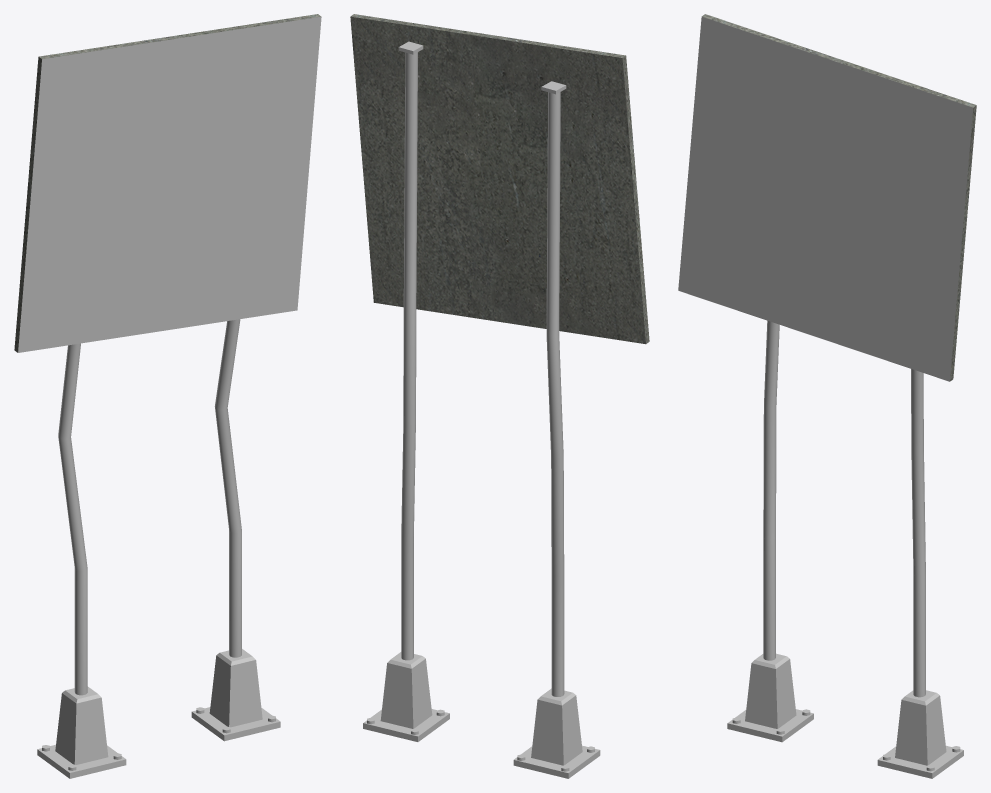
File: RV_Signs_00.fbx
3 views of the same model, side by side, from view 1: azimuth 30°, elevation 25°; view 2: azimuth 150°, elevation 25°; view 3: azimuth 330°, elevation 25° (orthographic). The views are drawn at different scales.
Visible parts, largest first — view 1: RV_Signs_00; view 2: RV_Signs_00; view 3: RV_Signs_00.
Boxes of the visible parts, x1,y1,x2,y2 form: RV_Signs_00: [14, 14, 321, 778]; RV_Signs_00: [350, 14, 649, 778]; RV_Signs_00: [678, 14, 976, 778].
Bounding box in the file's own units: 120 × 275 × 22.36.
